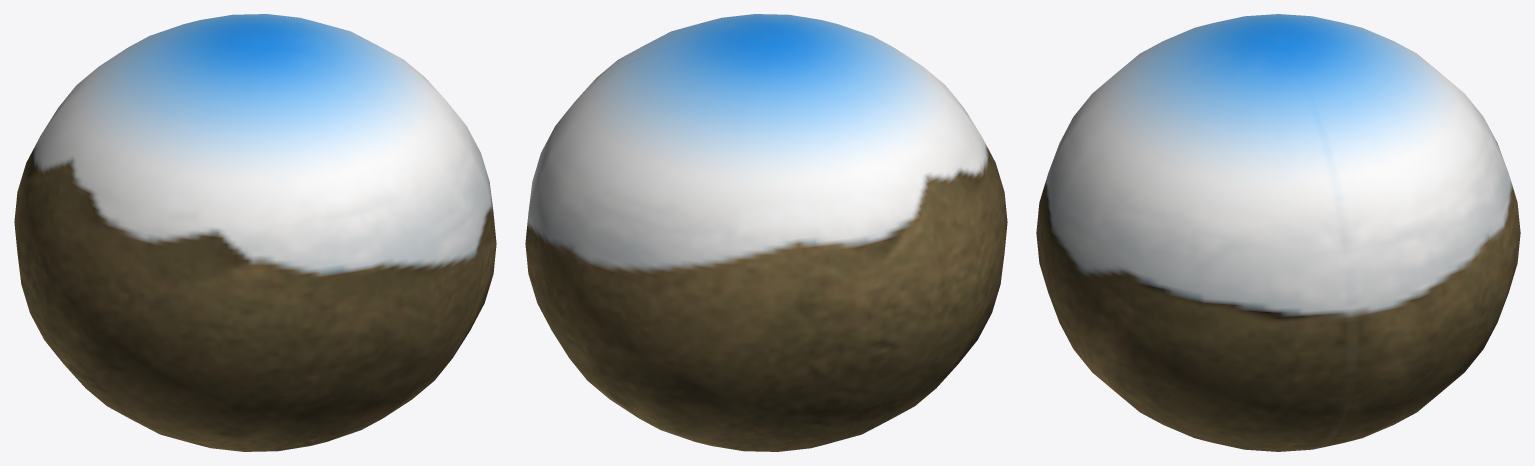
Rendered from skydome.fbx.
3 renders of one model, left to right at view 1: azimuth 30°, elevation 25°; view 2: azimuth 150°, elevation 25°; view 3: azimuth 270°, elevation 25°, orthographic.
Visible parts, largest first — view 1: pSphere1; view 2: pSphere1; view 3: pSphere1.
Part boxes in pixels (x1,y1,x2,y2): pSphere1: (14,14,496,451); pSphere1: (525,14,1007,451); pSphere1: (1036,14,1520,451).
Bounding box in the file's own units: 870 × 870 × 767.
